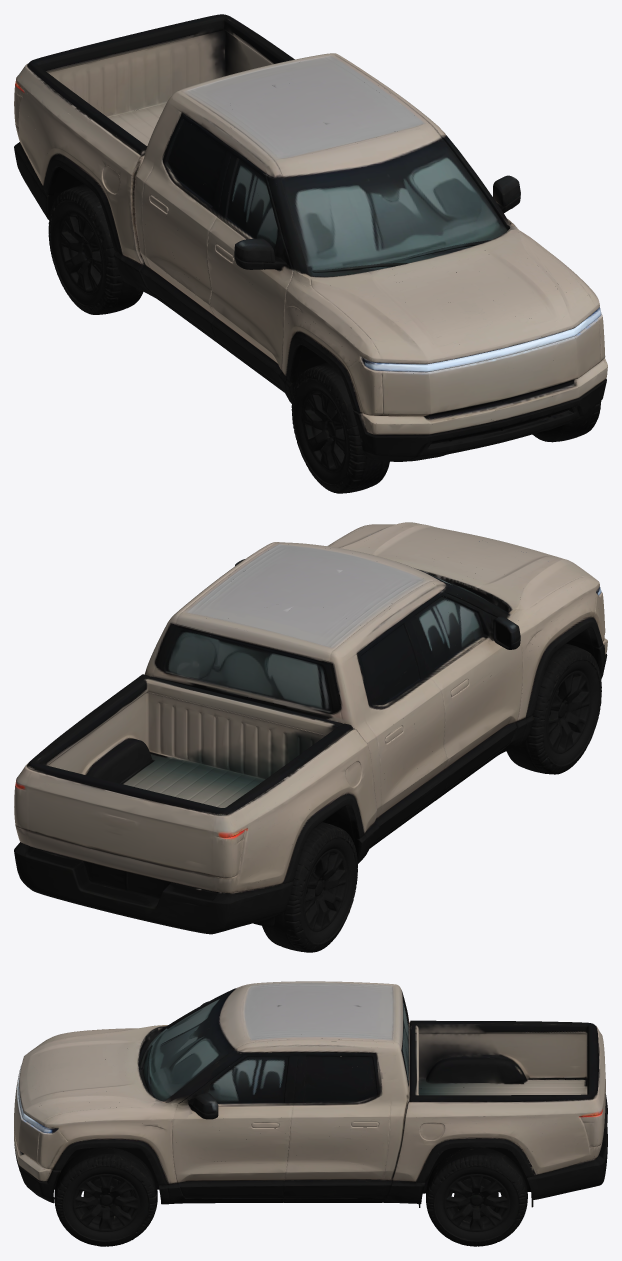
File: car-3.glb
The picture shows the model from 3 angles, top to bottom: view 1: azimuth 30°, elevation 25°; view 2: azimuth 150°, elevation 25°; view 3: azimuth 270°, elevation 25°; orthographic projection. The views are drawn at different scales.
Parts seen in each view (by area): view 1: Car_Truck_HQ; view 2: Car_Truck_HQ; view 3: Car_Truck_HQ.
Boxes of the visible parts, bbox=[...] form: Car_Truck_HQ: bbox=[14, 14, 607, 493]; Car_Truck_HQ: bbox=[14, 522, 607, 952]; Car_Truck_HQ: bbox=[14, 981, 607, 1246].
Bounding box in the file's own units: 2.33 × 2.03 × 5.6.
Materials: 1 (1 with a texture image).
